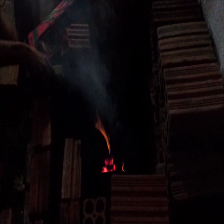fire_l: (95, 124, 111, 154), (102, 159, 115, 173), (121, 164, 124, 171)
